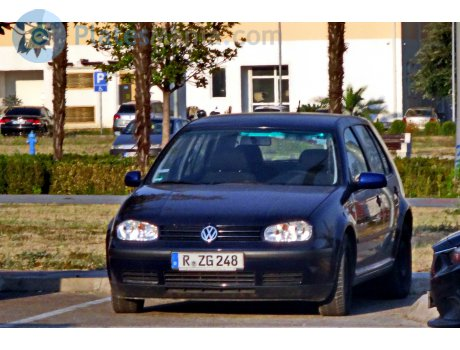License Plates: (170, 244, 240, 265)
